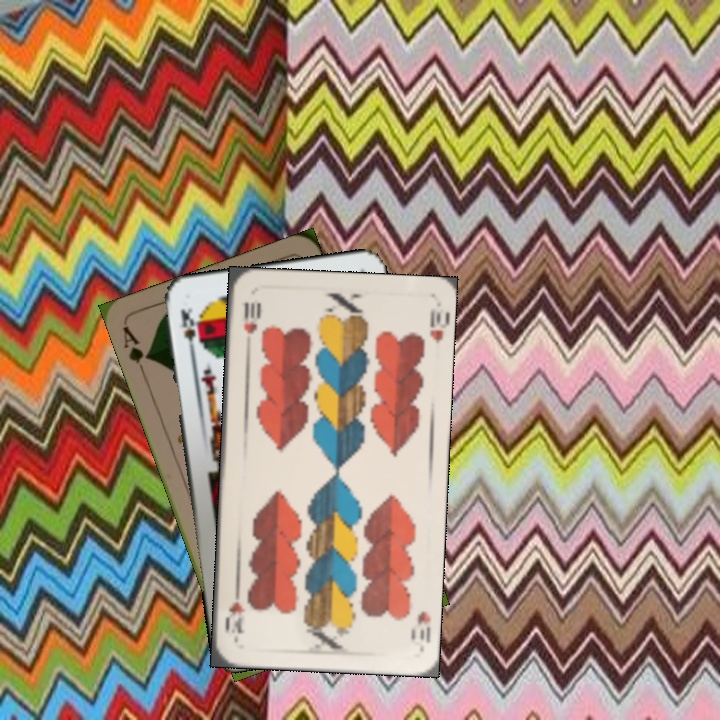GA: (118, 322, 154, 379)
H10: (239, 298, 262, 337), (413, 607, 433, 645)
SK: (176, 304, 198, 359)
